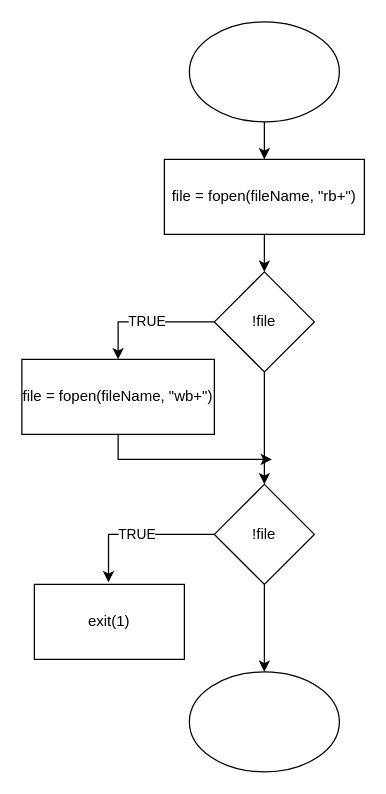
Image size: 386x794. Some labels were removed from this diagram. The shapes that lost their labels are listed below. From the top down, each one's centre as x and y in pixels, then its label:
(x=263, y=71): Начало openFile
(x=263, y=721): Конец
